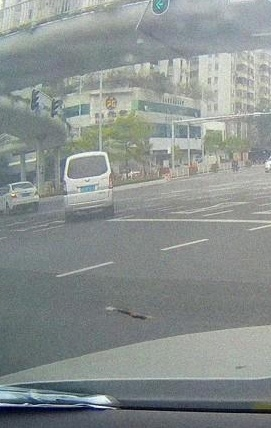L_light: (62, 180, 67, 195), (11, 193, 18, 198)
R_light: (108, 173, 113, 189), (33, 190, 39, 195)
T_light: (82, 156, 89, 159), (18, 183, 24, 185)
day-left: (9, 181, 40, 216)
day-no: (62, 151, 113, 223)
